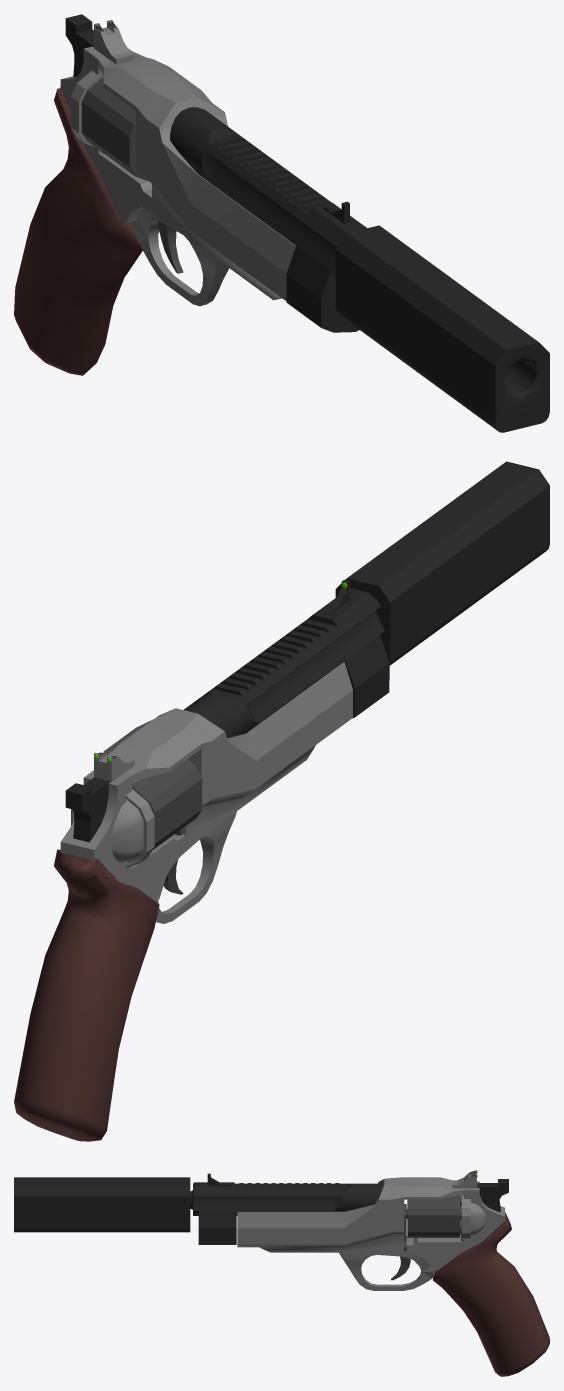
Rendered from kingsley pistol Ver.1.fbx.
3 renders of one model, top to bottom at view 1: azimuth 30°, elevation 25°; view 2: azimuth 150°, elevation 25°; view 3: azimuth 270°, elevation 25°, orthographic. The views are drawn at different scales.
Parts seen in each view (by area): view 1: Pistol_main, Cylinder; view 2: Pistol_main, Cylinder; view 3: Pistol_main, Cylinder.
Boxes of the visible parts, left/top/right/bottom form: Pistol_main: left=14, top=14, right=549, bottom=432; Cylinder: left=81, top=77, right=149, bottom=181; Pistol_main: left=14, top=461, right=549, bottom=1141; Cylinder: left=132, top=759, right=202, bottom=849; Pistol_main: left=14, top=1170, right=549, bottom=1376; Cylinder: left=406, top=1195, right=461, bottom=1237.
Bounding box in the file's own units: 3.04 × 13.63 × 32.58.
